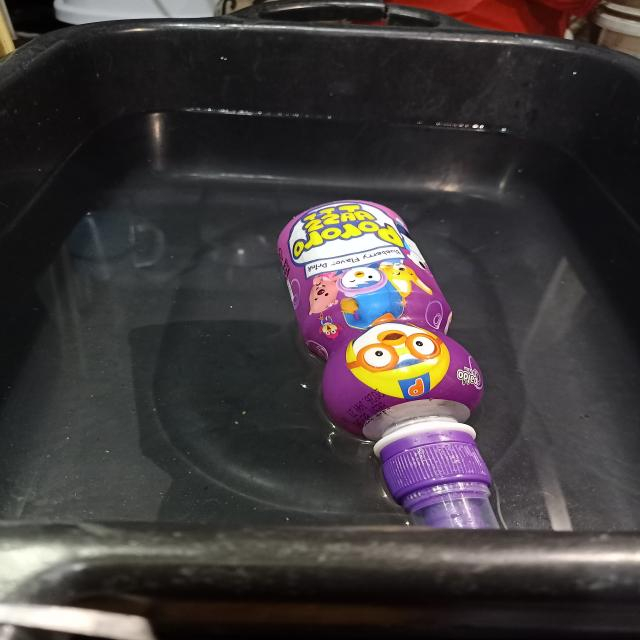Plastic Bottle: (278, 200, 499, 529)
